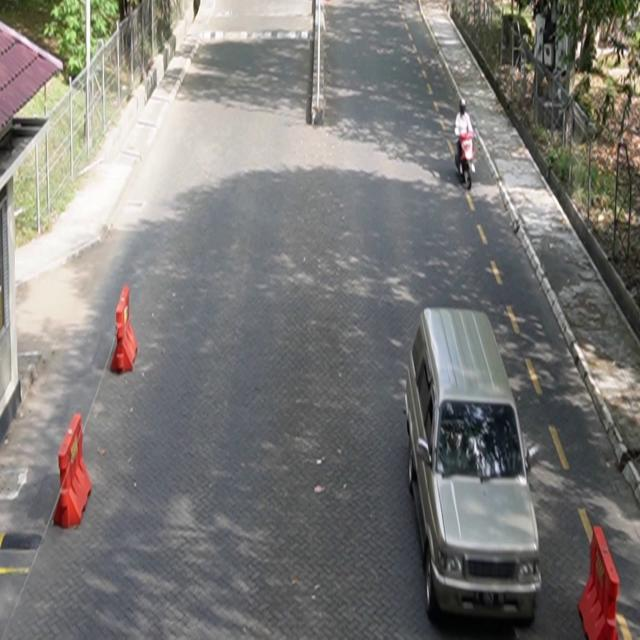car: (404, 306, 543, 626)
